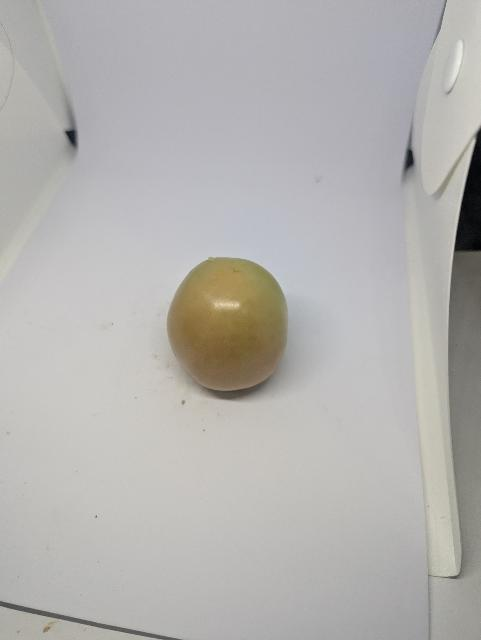breaker: (167, 257, 288, 391)
